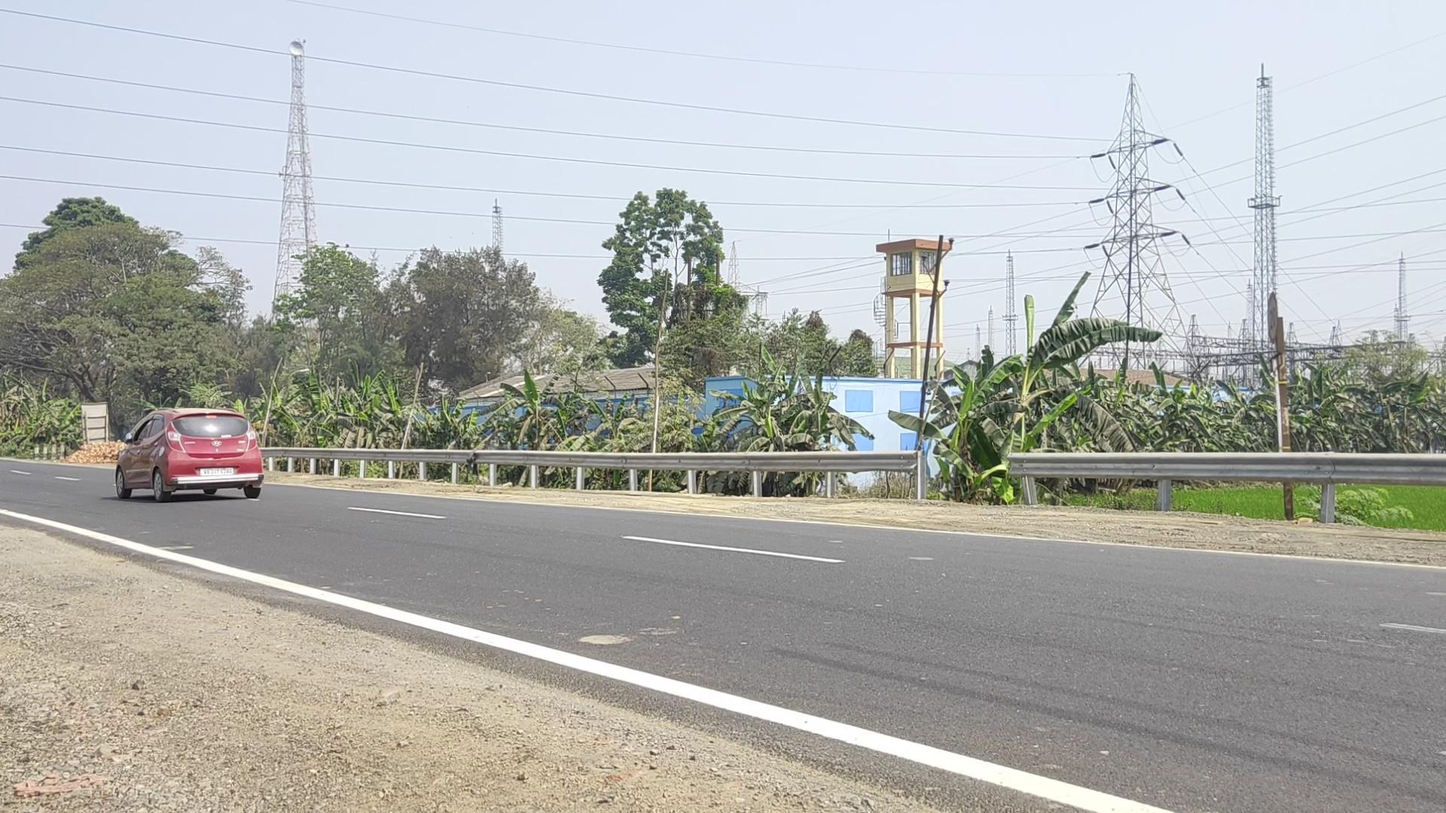car: (115, 407, 264, 503)
